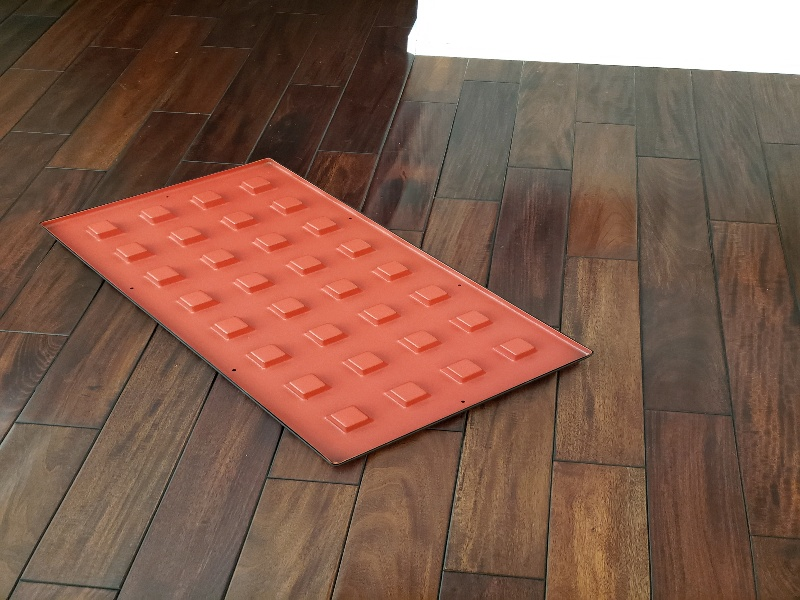ftc_base: (26, 147, 605, 475)
